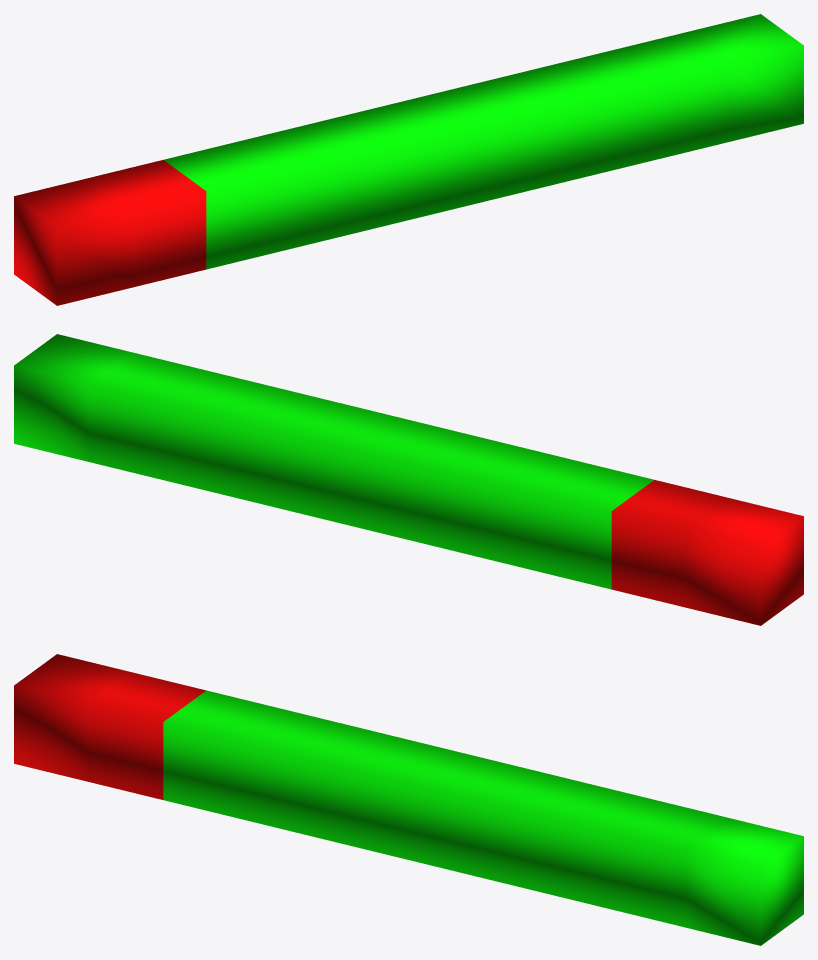
File: healthbar.fbx
The picture shows the model from 3 angles, top to bottom: view 1: azimuth 30°, elevation 25°; view 2: azimuth 150°, elevation 25°; view 3: azimuth 330°, elevation 25°; orthographic projection.
Parts seen in each view (by area): view 1: Cube; view 2: Cube; view 3: Cube.
Part boxes in pixels (<box>): Cube: <box>14,14,803,305</box>; Cube: <box>14,334,803,625</box>; Cube: <box>14,654,803,945</box>.
Size of the model in its own units: 1.5 by 0.15 by 0.15.
1 material, 1 textured.
